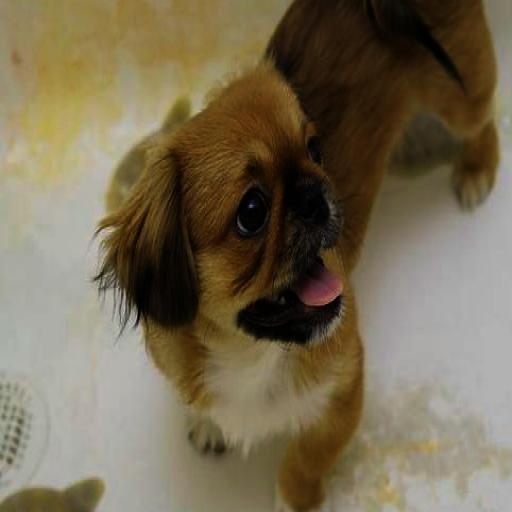dog_face: (125, 68, 335, 351)
